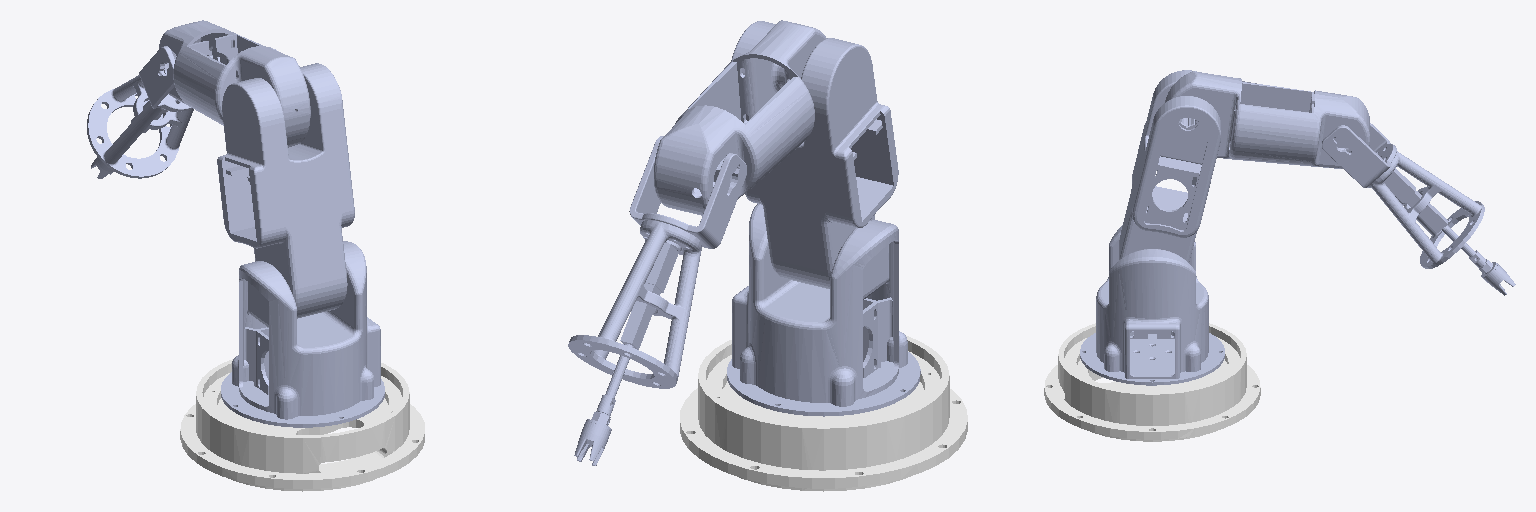
robot.urdf — myarm_description:
<?xml version="1.0" encoding="utf-8"?>
<!-- This URDF was automatically created by SolidWorks to URDF Exporter! Originally created by [author] ([email redacted]) 
     Commit Version: 1.6.0-1-g15f4949  Build Version: 1.6.7594.29634
     For more information, please see http://wiki.ros.org/sw_urdf_exporter -->
<robot
  name="myarm_description">
  <link
    name="base_link">
    <inertial>
      <origin
        xyz="-6.9021E-09 -0.027444 -0.0032058"
        rpy="0 0 0" />
      <mass
        value="1.0041" />
      <inertia
        ixx="0.0046558"
        ixy="1.2408E-10"
        ixz="4.7789E-10"
        iyy="0.0091456"
        iyz="7.7707E-06"
        izz="0.0049085" />
    </inertial>
    <visual>
      <origin
        xyz="0 0 0"
        rpy="0 0 0" />
      <geometry>
        <mesh
          filename="package://myarm_description/meshes/base_link.STL" />
      </geometry>
      <material
        name="">
        <color
          rgba="1 1 1 1" />
      </material>
    </visual>
    <collision>
      <origin
        xyz="0 0 0"
        rpy="0 0 0" />
      <geometry>
        <mesh
          filename="package://myarm_description/meshes/base_link.STL" />
      </geometry>
    </collision>
  </link>
  
  <link name="world"/>
	<joint name="fixed" type="fixed">
	         <origin xyz="0 0 0.08" rpy="0 0 0" />
 		 <parent link="world"/>
		 <child link="base_link"/>
	</joint>
  
  <link
    name="link1">
    <inertial>
      <origin
        xyz="0.0059723 0.056817 -3.2105E-06"
        rpy="0 0 0" />
      <mass
        value="0.41965" />
      <inertia
        ixx="0.0012467"
        ixy="4.2158E-05"
        ixz="-6.4547E-08"
        iyy="0.001319"
        iyz="-3.9043E-08"
        izz="0.0012849" />
    </inertial>
    <visual>
      <origin
        xyz="0 0 0"
        rpy="0 0 0" />
      <geometry>
        <mesh
          filename="package://myarm_description/meshes/link1.STL" />
      </geometry>
      <material
        name="">
        <color
          rgba="0.79216 0.81961 0.93333 1" />
      </material>
    </visual>
    <collision>
      <origin
        xyz="0 0 0"
        rpy="0 0 0" />
      <geometry>
        <mesh
          filename="package://myarm_description/meshes/link1.STL" />
      </geometry>
    </collision>
  </link>
  <joint
    name="joint1"
    type="revolute">
    <origin
      xyz="0.01 0 0"
      rpy="1.5708 0 -3.1416" />
    <parent
      link="base_link" />
    <child
      link="link1" />
    <axis
      xyz="0 1 0" />
    <limit
      lower="-3.14"
      upper="3.14"
      effort="50"
      velocity="6.28" />
  </joint>
  <link
    name="link2">
    <inertial>
      <origin
        xyz="0.01568 0.090701 5.7164E-06"
        rpy="0 0 0" />
      <mass
        value="0.47369" />
      <inertia
        ixx="0.0026032"
        ixy="-6.1772E-05"
        ixz="-1.3902E-07"
        iyy="0.00079737"
        iyz="-2.794E-08"
        izz="0.0026857" />
    </inertial>
    <visual>
      <origin
        xyz="0 0 0"
        rpy="0 0 0" />
      <geometry>
        <mesh
          filename="package://myarm_description/meshes/link2.STL" />
      </geometry>
      <material
        name="">
        <color
          rgba="0.79216 0.81961 0.93333 1" />
      </material>
    </visual>
    <collision>
      <origin
        xyz="0 0 0"
        rpy="0 0 0" />
      <geometry>
        <mesh
          filename="package://myarm_description/meshes/link2.STL" />
      </geometry>
    </collision>
  </link>
  <joint
    name="joint2"
    type="revolute">
    <origin
      xyz="0 0.128 0"
      rpy="0.21946 0 0" />
    <parent
      link="link1" />
    <child
      link="link2" />
    <axis
      xyz="-1 0 0" />
    <limit
      lower="-3.14"
      upper="3.14"
      effort="50"
      velocity="6.28" />
  </joint>
  <link
    name="link3">
    <inertial>
      <origin
        xyz="-0.009795 0.085155 -0.0045558"
        rpy="0 0 0" />
      <mass
        value="0.38106" />
      <inertia
        ixx="0.0018705"
        ixy="-7.6065E-06"
        ixz="-3.5665E-07"
        iyy="0.00046644"
        iyz="2.1437E-05"
        izz="0.0018538" />
    </inertial>
    <visual>
      <origin
        xyz="0 0 0"
        rpy="0 0 0" />
      <geometry>
        <mesh
          filename="package://myarm_description/meshes/link3.STL" />
      </geometry>
      <material
        name="">
        <color
          rgba="0.79216 0.81961 0.93333 1" />
      </material>
    </visual>
    <collision>
      <origin
        xyz="0 0 0"
        rpy="0 0 0" />
      <geometry>
        <mesh
          filename="package://myarm_description/meshes/link3.STL" />
      </geometry>
    </collision>
  </link>
  <joint
    name="joint3"
    type="revolute">
    <origin
      xyz="0 0.19 0"
      rpy="1.6545 0 -3.1416" />
    <parent
      link="link2" />
    <child
      link="link3" />
    <axis
      xyz="1 0 0" />
    <limit
      lower="-3.14"
      upper="3.14"
      effort="50"
      velocity="6.28" />
  </joint>
  <link
    name="link4">
    <inertial>
      <origin
        xyz="-0.0095 -0.098926 1.0164E-05"
        rpy="0 0 0" />
      <mass
        value="0.46608" />
      <inertia
        ixx="0.00083153"
        ixy="2.4341E-10"
        ixz="-2.2888E-09"
        iyy="0.00046499"
        iyz="1.1085E-07"
        izz="0.00093012" />
    </inertial>
    <visual>
      <origin
        xyz="0 0 0"
        rpy="0 0 0" />
      <geometry>
        <mesh
          filename="package://myarm_description/meshes/link4.STL" />
      </geometry>
      <material
        name="">
        <color
          rgba="0.79216 0.81961 0.93333 1" />
      </material>
    </visual>
    <collision>
      <origin
        xyz="0 0 0"
        rpy="0 0 0" />
      <geometry>
        <mesh
          filename="package://myarm_description/meshes/link4.STL" />
      </geometry>
    </collision>
  </link>
  <joint
    name="joint4"
    type="revolute">
    <origin
      xyz="0 0.18 0"
      rpy="2.4746 0 0" />
    <parent
      link="link3" />
    <child
      link="link4" />
    <axis
      xyz="1 0 0" />
    <limit
      lower="-3.14"
      upper="3.14"
      effort="50"
      velocity="6.28" />
  </joint>
  
  <transmission name="trans_joint1">
        <type>transmission_interface/SimpleTransmission</type>
        <joint name="joint1">
            <hardwareInterface>hardware_interface/PositionJointInterface</hardwareInterface>
        </joint>
        <actuator name="joint1_motor">
            <hardwareInterface>hardware_interface/PositionJointInterface</hardwareInterface>
            <mechanicalReduction>1</mechanicalReduction>
        </actuator>
    </transmission>
    <transmission name="trans_joint2">
        <type>transmission_interface/SimpleTransmission</type>
        <joint name="joint2">
            <hardwareInterface>hardware_interface/PositionJointInterface</hardwareInterface>
        </joint>
        <actuator name="joint2_motor">
            <hardwareInterface>hardware_interface/PositionJointInterface</hardwareInterface>
            <mechanicalReduction>1</mechanicalReduction>
        </actuator>
    </transmission>
    <transmission name="trans_joint3">
        <type>transmission_interface/SimpleTransmission</type>
        <joint name="joint3">
            <hardwareInterface>hardware_interface/PositionJointInterface</hardwareInterface>
        </joint>
        <actuator name="joint3_motor">
            <hardwareInterface>hardware_interface/PositionJointInterface</hardwareInterface>
            <mechanicalReduction>1</mechanicalReduction>
        </actuator>
    </transmission>
    <transmission name="trans_joint4">
        <type>transmission_interface/SimpleTransmission</type>
        <joint name="joint4">
            <hardwareInterface>hardware_interface/PositionJointInterface</hardwareInterface>
        </joint>
        <actuator name="joint4_motor">
            <hardwareInterface>hardware_interface/PositionJointInterface</hardwareInterface>
            <mechanicalReduction>1</mechanicalReduction>
        </actuator>
    </transmission>
    <gazebo>
        <plugin name="gazebo_ros_control" filename="libgazebo_ros_control.so">
            <robotNamespace>/</robotNamespace>
        </plugin>
    </gazebo>
</robot>

--- What the picture shows (computed from the rendered views, not written in the file) ---
3 views of the same robot in one strip: view 1: azimuth 30°, elevation 25°; view 2: azimuth 150°, elevation 25°; view 3: azimuth 270°, elevation 25° (orthographic).
Model myarm_description with 6 links and 5 joints (4 revolute, 1 fixed), rooted at world, posed every joint at zero.
Links seen in each view (by area): view 1: link2, link1, base_link, link3, link4; view 2: link1, base_link, link2, link3, link4; view 3: link1, base_link, link2, link3, link4.
Link boxes in pixels (x1=…): link2: x1=217, y1=63, x2=354, y2=318; link1: x1=221, y1=241, x2=384, y2=427; base_link: x1=180, y1=359, x2=424, y2=491; link3: x1=159, y1=20, x2=310, y2=147; link4: x1=87, y1=46, x2=219, y2=178; link1: x1=727, y1=204, x2=920, y2=416; base_link: x1=680, y1=336, x2=967, y2=491; link2: x1=731, y1=21, x2=898, y2=288; link3: x1=654, y1=20, x2=826, y2=215; link4: x1=568, y1=136, x2=746, y2=465; link1: x1=1080, y1=225, x2=1224, y2=385; base_link: x1=1044, y1=323, x2=1260, y2=441; link2: x1=1119, y1=70, x2=1220, y2=262; link3: x1=1165, y1=71, x2=1369, y2=168; link4: x1=1322, y1=123, x2=1515, y2=295.
Bounding box of the posed robot: 0.2496 × 0.5444 × 0.4163 m (x, y, z).
5 mesh visuals loaded from 5 distinct referenced files (5 binary STL).